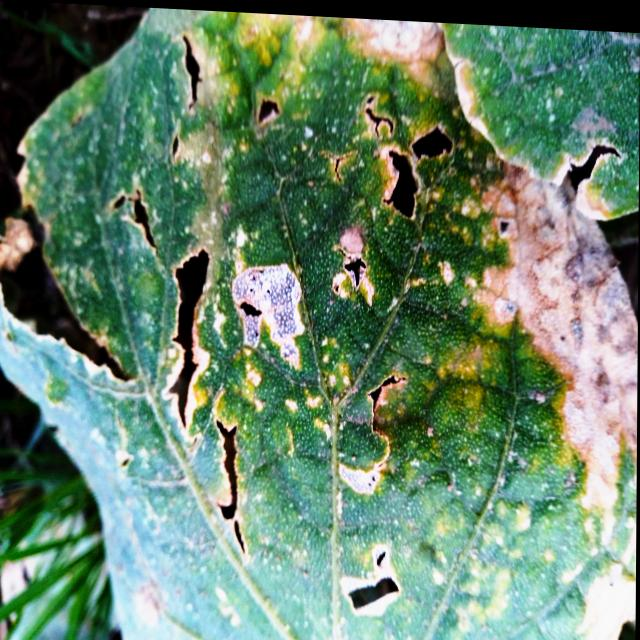Anthracnose: (361, 94, 457, 228), (163, 246, 219, 436), (212, 418, 250, 556), (340, 542, 405, 620), (111, 184, 160, 261), (181, 28, 203, 116), (249, 92, 283, 135)
